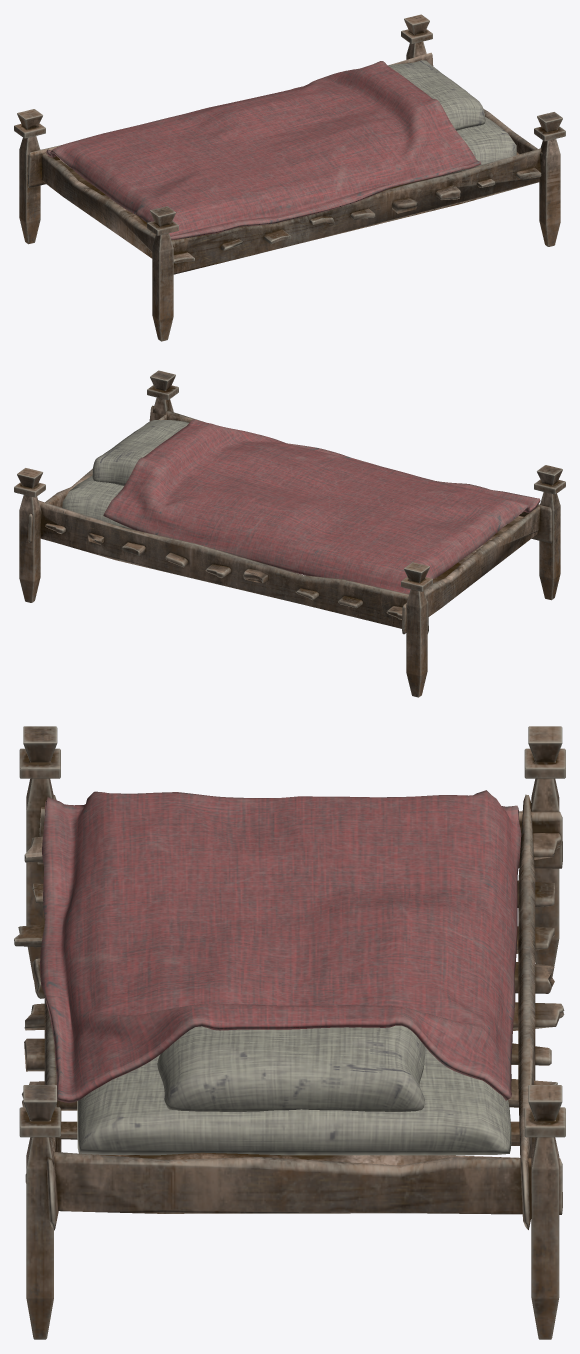
Rendered from SM_Bed.fbx.
3 views of the same model, one above another, from view 1: azimuth 30°, elevation 25°; view 2: azimuth 150°, elevation 25°; view 3: azimuth 270°, elevation 25° (orthographic). The views are drawn at different scales.
Visible parts, largest first — view 1: SM_Bed_LOD0; view 2: SM_Bed_LOD0; view 3: SM_Bed_LOD0.
Boxes of the visible parts, x1,y1,x2,y2 form: SM_Bed_LOD0: (14,14,565,341); SM_Bed_LOD0: (14,370,565,697); SM_Bed_LOD0: (14,726,565,1339).
Bounding box in the file's own units: 304 × 187 × 93.86.
Materials: 1 (1 with a texture image).
